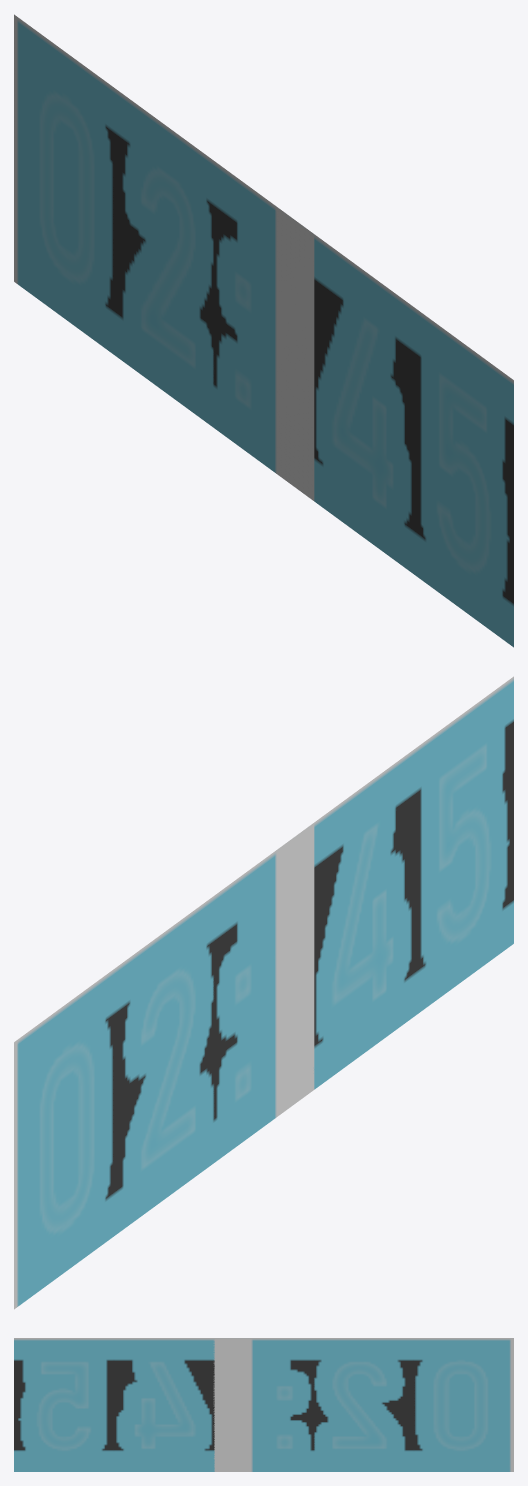
File: M_Tshuzi02.FBX
3 views of the same model, one above another, from view 1: azimuth 30°, elevation 25°; view 2: azimuth 150°, elevation 25°; view 3: azimuth 270°, elevation 25° (orthographic). The views are drawn at different scales.
Parts seen in each view (by area): view 1: M_Tshuzi02_03, M_Tshuzi02_01, M_Tshuzi02_05, M_Tshuzi02_04, M_Tshuzi02_02; view 2: M_Tshuzi02_03, M_Tshuzi02_02, M_Tshuzi02_04, M_Tshuzi02_01, M_Tshuzi02_05; view 3: M_Tshuzi02_04, M_Tshuzi02_03, M_Tshuzi02_01, M_Tshuzi02_02, M_Tshuzi02_05.
Part boxes in pixels (x1,y1,x2,y2): M_Tshuzi02_03: (213, 161, 314, 500); M_Tshuzi02_01: (14, 14, 114, 354); M_Tshuzi02_05: (413, 307, 513, 647); M_Tshuzi02_04: (314, 234, 414, 574); M_Tshuzi02_02: (113, 87, 214, 427); M_Tshuzi02_03: (213, 823, 314, 1162); M_Tshuzi02_02: (113, 896, 214, 1235); M_Tshuzi02_04: (314, 749, 414, 1089); M_Tshuzi02_01: (14, 969, 114, 1309); M_Tshuzi02_05: (413, 676, 513, 1016); M_Tshuzi02_04: (113, 1338, 214, 1471); M_Tshuzi02_03: (213, 1338, 314, 1471); M_Tshuzi02_01: (413, 1338, 513, 1471); M_Tshuzi02_02: (313, 1338, 414, 1471); M_Tshuzi02_05: (14, 1338, 114, 1471).
Size of the model in its own units: 9.64e-08 by 0.6503 by 2.2.
